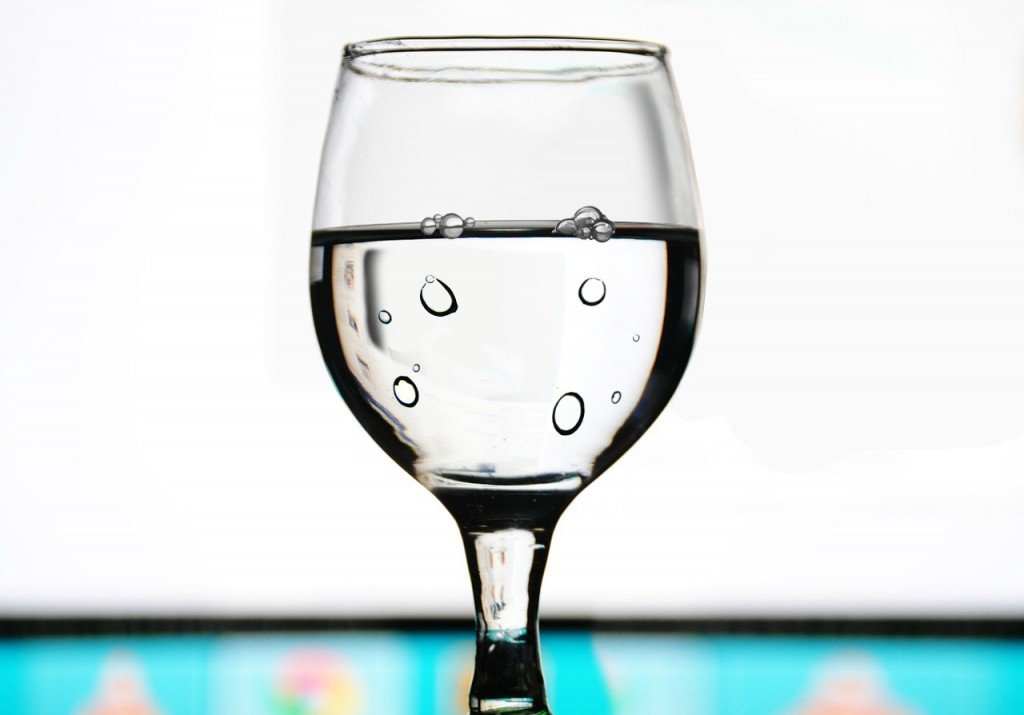glass of water: (309, 104, 697, 715)
